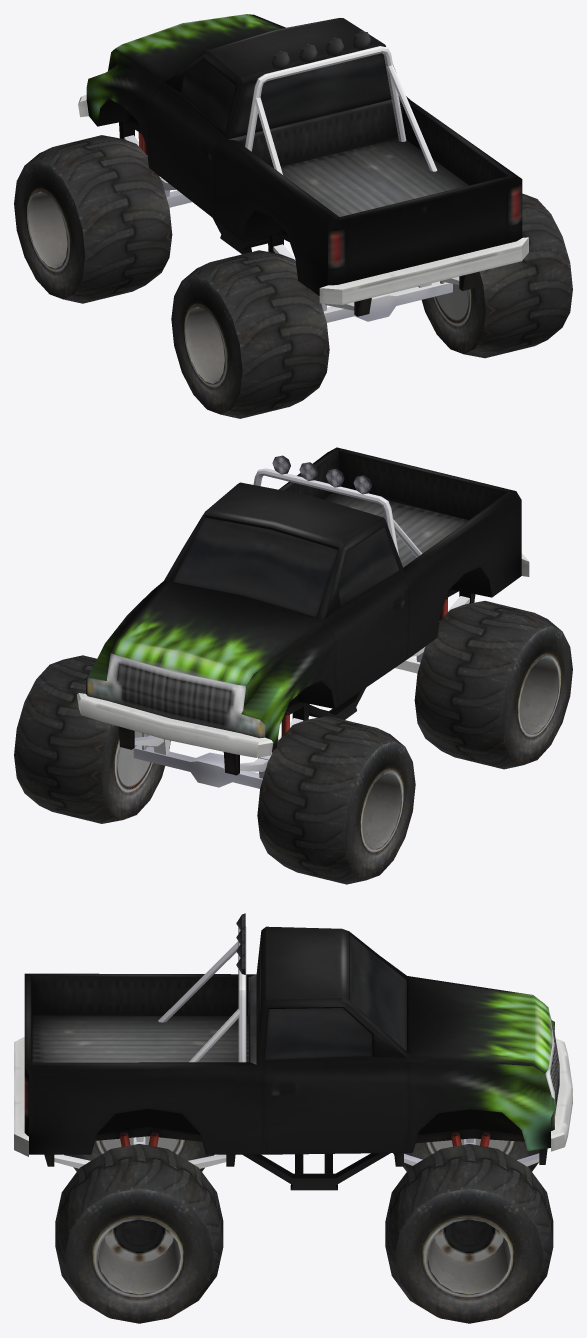
File: monstertruck.dae
3 views of the same model, one above another, from view 1: azimuth 30°, elevation 25°; view 2: azimuth 150°, elevation 25°; view 3: azimuth 270°, elevation 25° (orthographic). The views are drawn at different scales.
Visible parts, largest first — view 1: node_body, node_FL_tire, node_RL_tire, node_RR_tire, node_rear_axle; view 2: node_body, node_FL_tire, node_RL_tire, node_FR_tire, node_front_axle; view 3: node_body, node_FR_tire, node_RR_tire, node_RL_tire, node_FL_tire, node_RR_spring, node_Object01_1.
Part boxes in pixels (left/top/right/bottom): node_body: left=78, top=14, right=528, bottom=316; node_FL_tire: left=14, top=135, right=172, bottom=303; node_RL_tire: left=171, top=250, right=329, bottom=418; node_RR_tire: left=421, top=193, right=572, bottom=358; node_rear_axle: left=323, top=281, right=452, bottom=322; node_body: left=77, top=447, right=529, bottom=775; node_FL_tire: left=257, top=716, right=415, bottom=884; node_RL_tire: left=414, top=601, right=572, bottom=769; node_FR_tire: left=14, top=655, right=170, bottom=823; node_front_axle: left=133, top=745, right=262, bottom=788; node_body: left=14, top=913, right=572, bottom=1190; node_FR_tire: left=385, top=1144, right=553, bottom=1323; node_RR_tire: left=55, top=1144, right=223, bottom=1323; node_RL_tire: left=64, top=1136, right=214, bottom=1171; node_FL_tire: left=393, top=1138, right=539, bottom=1171; node_RR_spring: left=54, top=1154, right=226, bottom=1168; node_Object01_1: left=119, top=1130, right=490, bottom=1146.
Size of the model in its own units: 2.81 by 2.41 by 3.88.
Materials: 2 (2 with a texture image).
